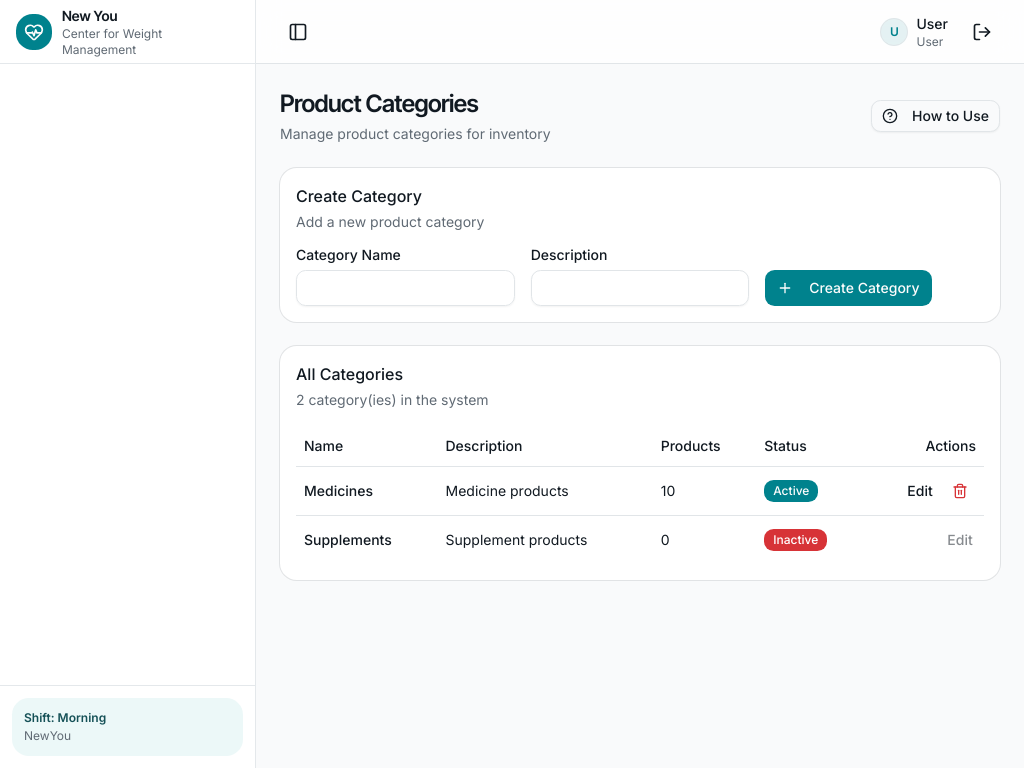
it: Product Categories Page UI › closes edit form when the category being edited is deactivated
The image size is (1024, 768).
Click the button "Edit" in the row of "Medicines".
click(920, 490)  # box [904,474,936,506]
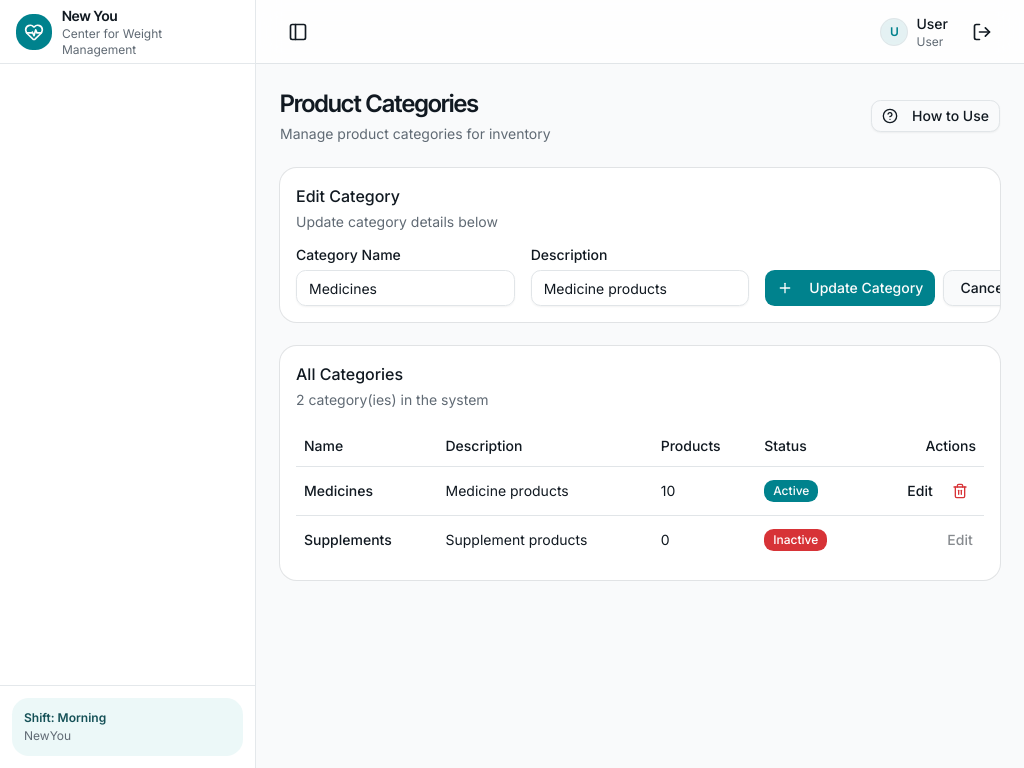
Expected: the text "Medicines" is shown, [304,482,373,498]
Expected: the text "Update category details below" is shown, [296,213,498,230]
Expected: the field showing "Medicines" is shown, [296,270,515,306]
Click the 7th button.
click(960, 490)  # box [944,474,976,506]
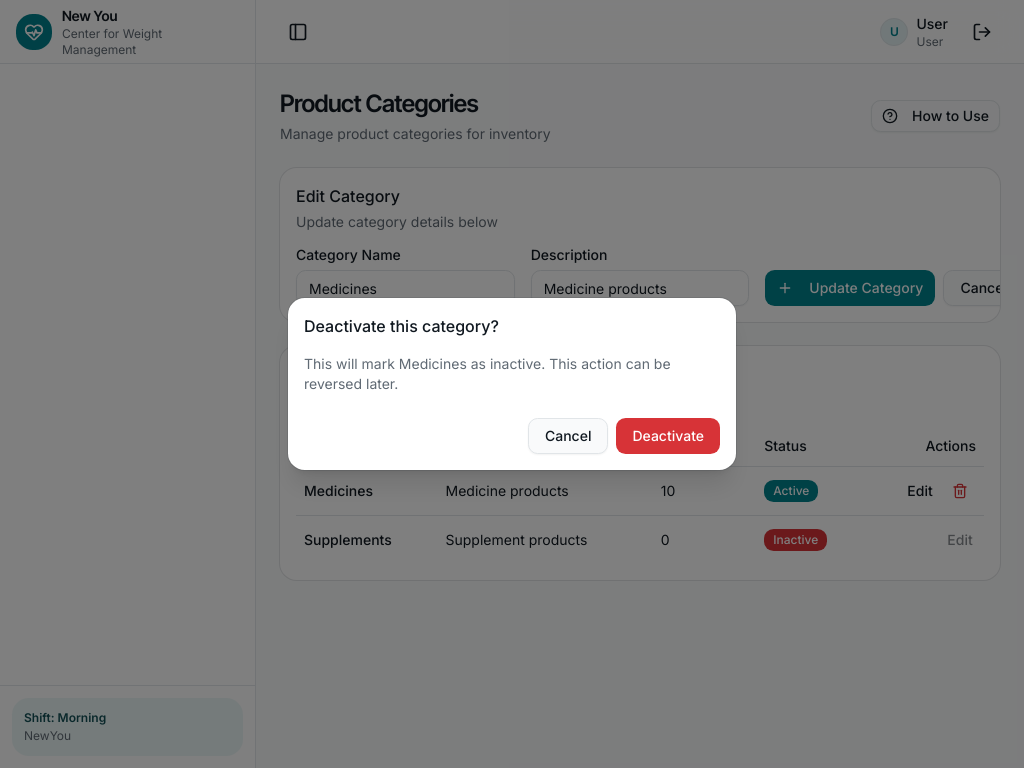
Expected: the text "Deactivate this category?" is shown, [304,316,499,336]
Click the button "Deactivate".
click(668, 436)  # box [616,418,720,454]
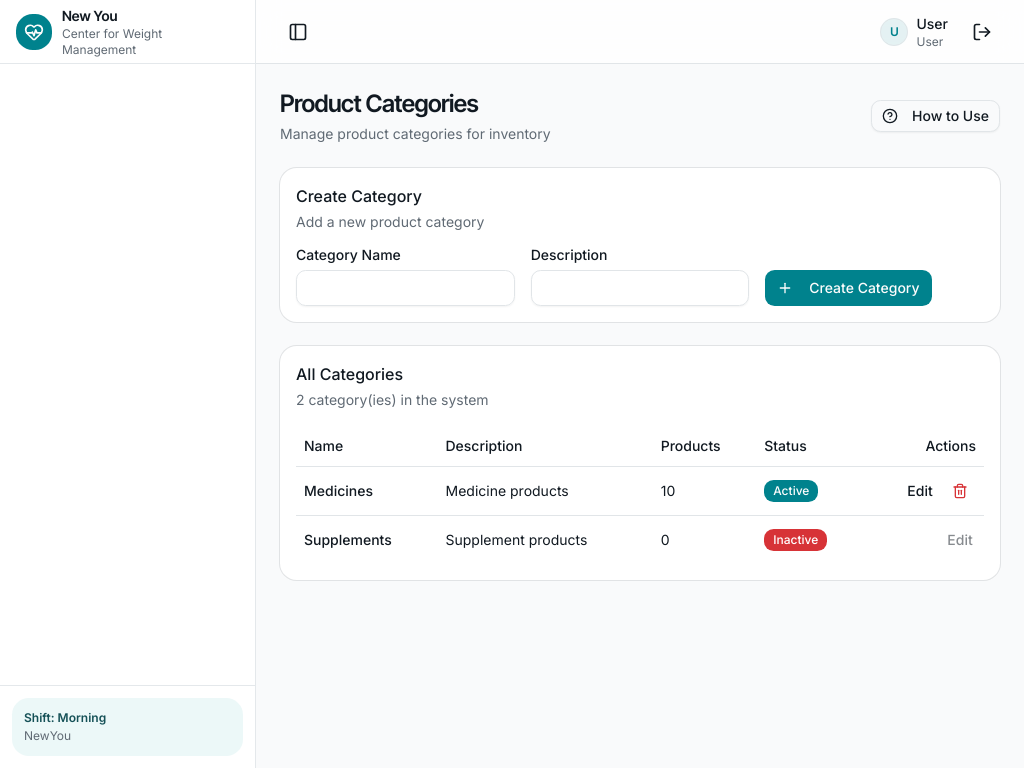
Expected: the text "Update category details below" is gone
